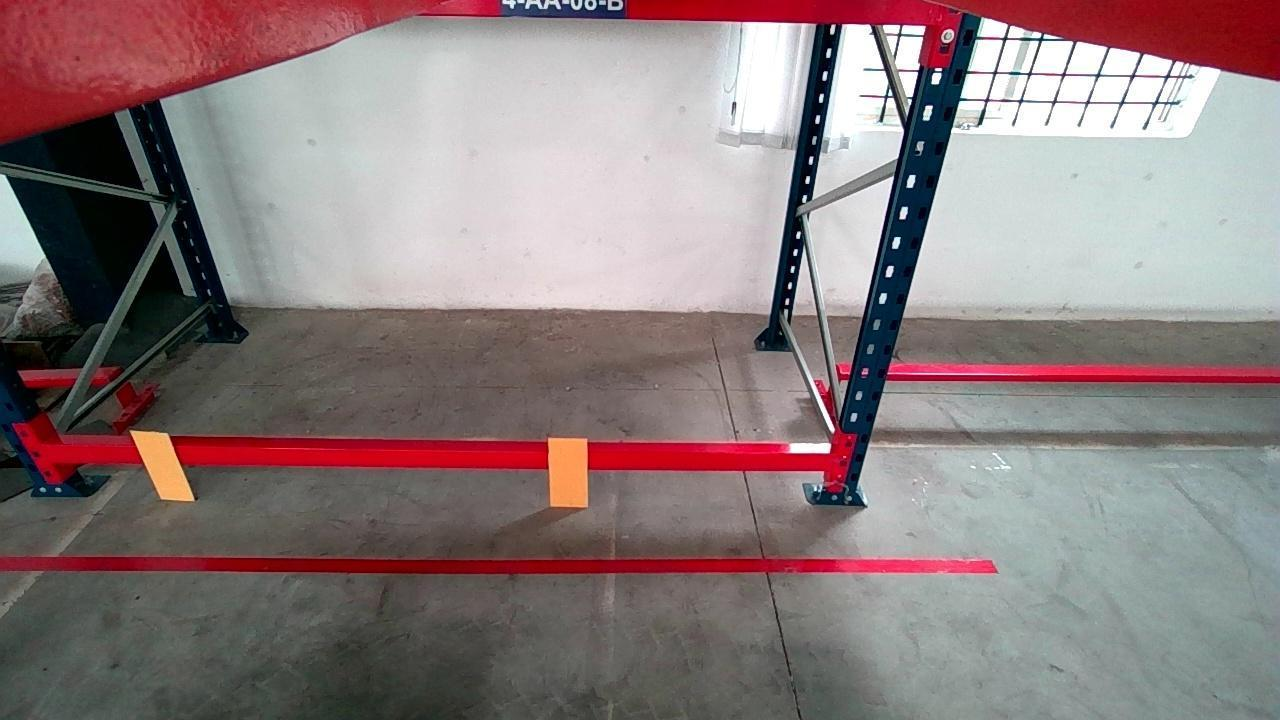h_rack: (38, 444, 847, 473)
orange_strip: (128, 428, 192, 500), (546, 438, 587, 508)
red_line: (0, 554, 996, 572)
